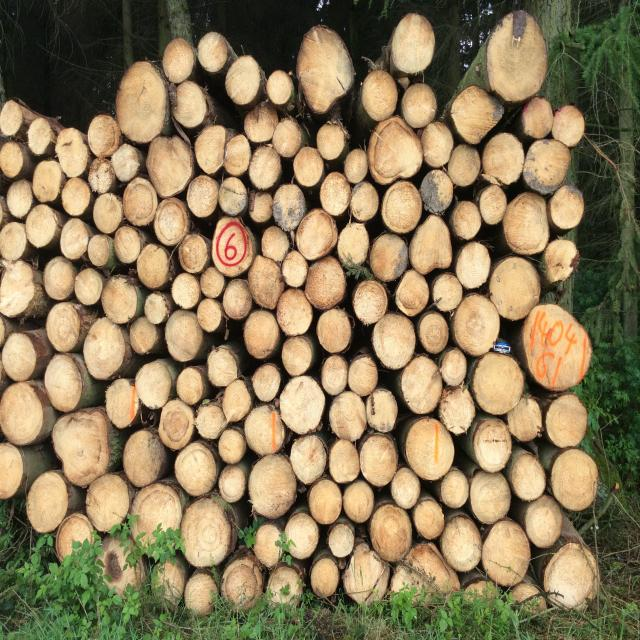wood-log: (522, 306, 595, 395), (489, 10, 551, 99), (52, 405, 117, 485), (295, 26, 353, 113), (116, 62, 172, 142), (366, 116, 422, 184), (183, 499, 234, 570), (394, 544, 458, 600), (402, 418, 455, 484), (470, 352, 525, 415), (545, 542, 598, 607), (482, 519, 532, 587), (487, 256, 539, 320), (249, 455, 299, 520), (449, 86, 503, 144), (550, 450, 598, 514), (453, 296, 502, 358), (144, 134, 193, 196), (1, 383, 49, 446), (502, 192, 550, 254), (128, 482, 182, 537), (280, 374, 327, 434), (391, 13, 437, 74), (85, 318, 130, 380), (27, 469, 70, 532), (409, 215, 454, 275), (372, 313, 417, 371), (123, 428, 168, 486), (344, 543, 386, 605), (525, 137, 573, 191), (369, 502, 412, 562), (88, 474, 132, 531), (401, 356, 444, 414), (176, 440, 220, 496), (220, 557, 265, 611), (44, 354, 85, 412), (480, 134, 525, 186), (243, 403, 288, 455), (440, 514, 481, 571), (304, 258, 348, 310), (470, 471, 513, 524), (472, 415, 513, 470), (545, 396, 588, 448), (381, 181, 423, 234), (296, 210, 338, 261), (521, 496, 562, 548), (358, 70, 399, 122), (360, 434, 400, 486), (165, 311, 204, 363), (242, 311, 282, 361), (506, 450, 546, 500), (56, 512, 96, 562), (0, 259, 34, 317), (438, 388, 479, 436), (250, 256, 286, 310), (329, 391, 367, 442), (101, 274, 141, 322), (368, 232, 408, 280), (225, 54, 263, 104), (276, 288, 314, 337), (136, 360, 173, 410), (47, 302, 84, 352), (55, 126, 91, 177), (160, 399, 196, 450), (454, 242, 491, 290), (122, 179, 159, 227), (171, 81, 207, 130), (194, 124, 230, 173), (104, 380, 139, 430), (154, 197, 190, 245), (3, 333, 39, 381), (402, 83, 440, 128), (315, 310, 353, 355), (544, 238, 581, 284), (351, 280, 388, 326), (507, 396, 543, 442), (422, 120, 456, 168), (160, 39, 196, 84), (396, 271, 432, 316), (267, 560, 303, 605), (308, 477, 342, 524), (287, 511, 320, 559), (25, 204, 61, 247), (447, 144, 482, 188), (248, 145, 282, 190), (137, 243, 171, 288), (337, 223, 371, 268), (183, 572, 219, 614), (87, 115, 123, 157), (521, 96, 556, 139), (43, 257, 77, 301), (367, 388, 400, 433), (552, 106, 587, 148), (186, 176, 220, 219), (550, 187, 584, 230), (254, 521, 285, 568), (320, 171, 352, 216), (280, 336, 316, 376), (222, 378, 255, 421), (31, 158, 63, 202), (329, 439, 360, 484), (199, 31, 233, 72), (448, 200, 481, 240), (433, 272, 466, 312), (177, 233, 210, 273), (346, 354, 378, 395), (412, 499, 443, 541), (0, 442, 23, 498), (60, 176, 92, 216), (206, 346, 238, 386), (310, 554, 339, 598), (350, 182, 381, 223), (344, 480, 374, 522), (128, 317, 160, 356), (294, 148, 325, 188), (61, 220, 92, 260), (223, 278, 254, 318), (93, 193, 123, 234), (440, 468, 470, 509), (225, 135, 254, 177), (273, 119, 304, 158), (478, 186, 508, 226), (392, 468, 421, 509), (176, 366, 206, 405), (113, 224, 142, 264), (110, 145, 141, 182), (316, 123, 347, 160), (220, 178, 249, 217), (74, 268, 104, 305), (440, 348, 468, 387), (0, 222, 27, 262), (217, 428, 247, 464), (8, 178, 35, 218), (170, 272, 200, 308), (322, 356, 349, 396), (262, 226, 292, 261), (329, 520, 356, 558), (220, 465, 247, 502), (0, 140, 26, 178), (267, 72, 295, 107), (281, 250, 307, 287), (196, 299, 223, 333), (28, 119, 53, 155), (200, 266, 227, 298), (343, 150, 368, 184), (144, 292, 170, 324), (0, 100, 23, 136), (89, 232, 112, 266)
